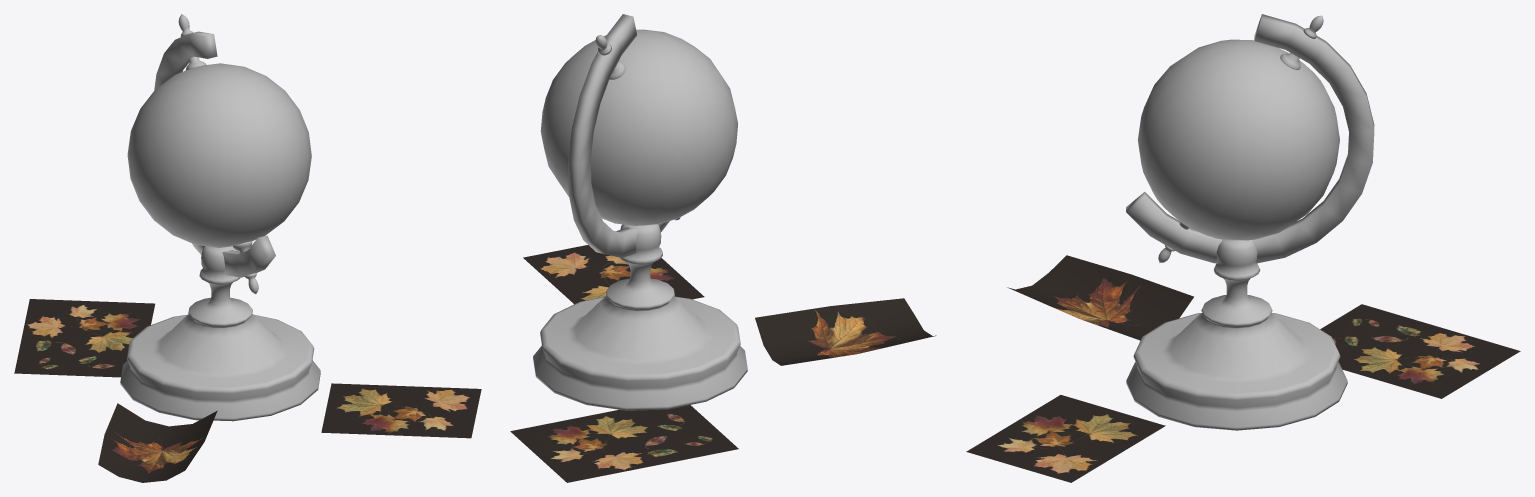
File: globo.glb
The picture shows the model from 3 angles, left to right: view 1: azimuth 30°, elevation 25°; view 2: azimuth 150°, elevation 25°; view 3: azimuth 270°, elevation 25°; orthographic projection. The views are drawn at different scales.
Visible parts, largest first — view 1: Line001, Plane003; view 2: Line001, Plane003; view 3: Line001, Plane003.
Boxes of the visible parts, bbox=[...] form: Line001: bbox=[120, 14, 320, 421]; Plane003: bbox=[14, 299, 481, 482]; Line001: bbox=[533, 14, 747, 410]; Plane003: bbox=[510, 245, 936, 482]; Line001: bbox=[1126, 14, 1374, 430]; Plane003: bbox=[966, 255, 1520, 482].
Size of the model in its own units: 103 by 85.81 by 117.
2 materials, 1 textured.
